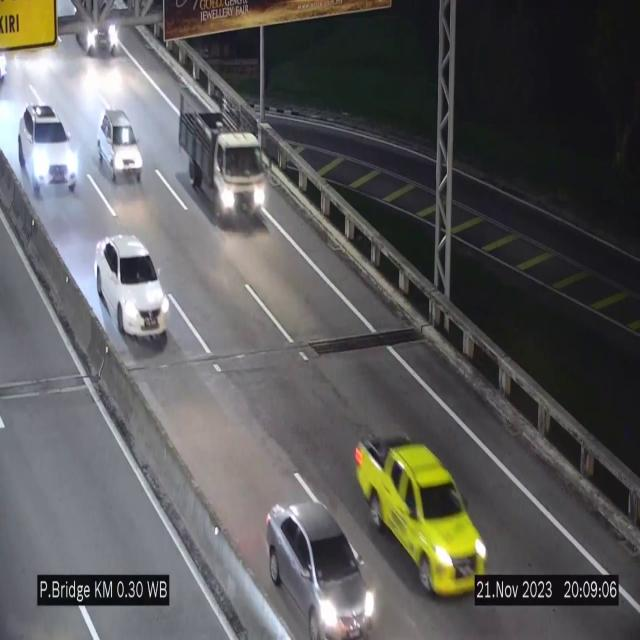Car: (354, 433, 488, 595), (266, 502, 380, 640), (94, 235, 169, 346), (19, 103, 78, 194), (98, 109, 142, 182)
Truck: (179, 86, 267, 225)
